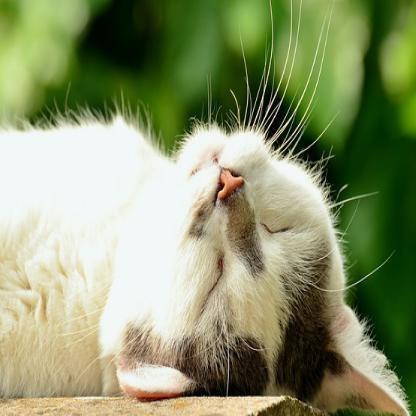cat: (0, 120, 411, 415)
